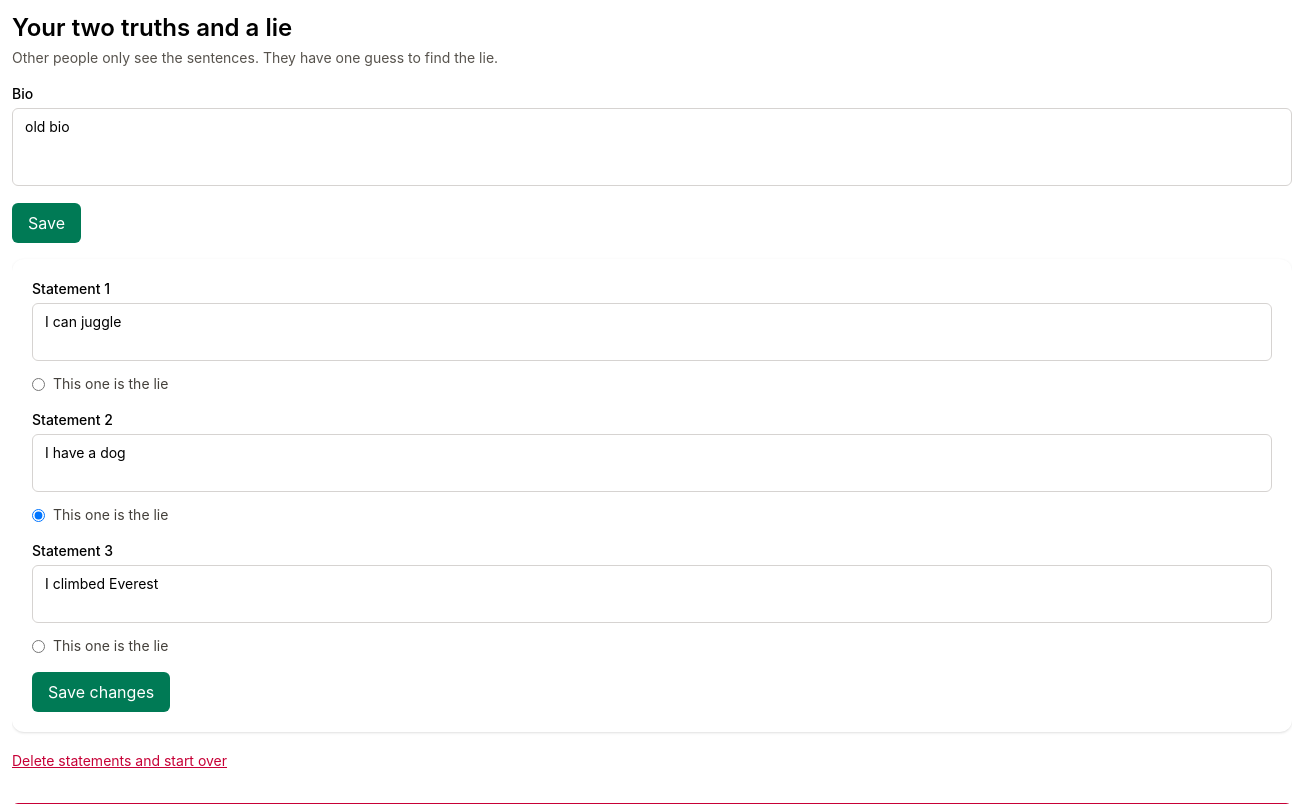
Scenario: saving a bio updates the signed-in user
Replace the text in the text box labelled "Bio" with "New bio" at (652, 147), box [12, 108, 1292, 186]
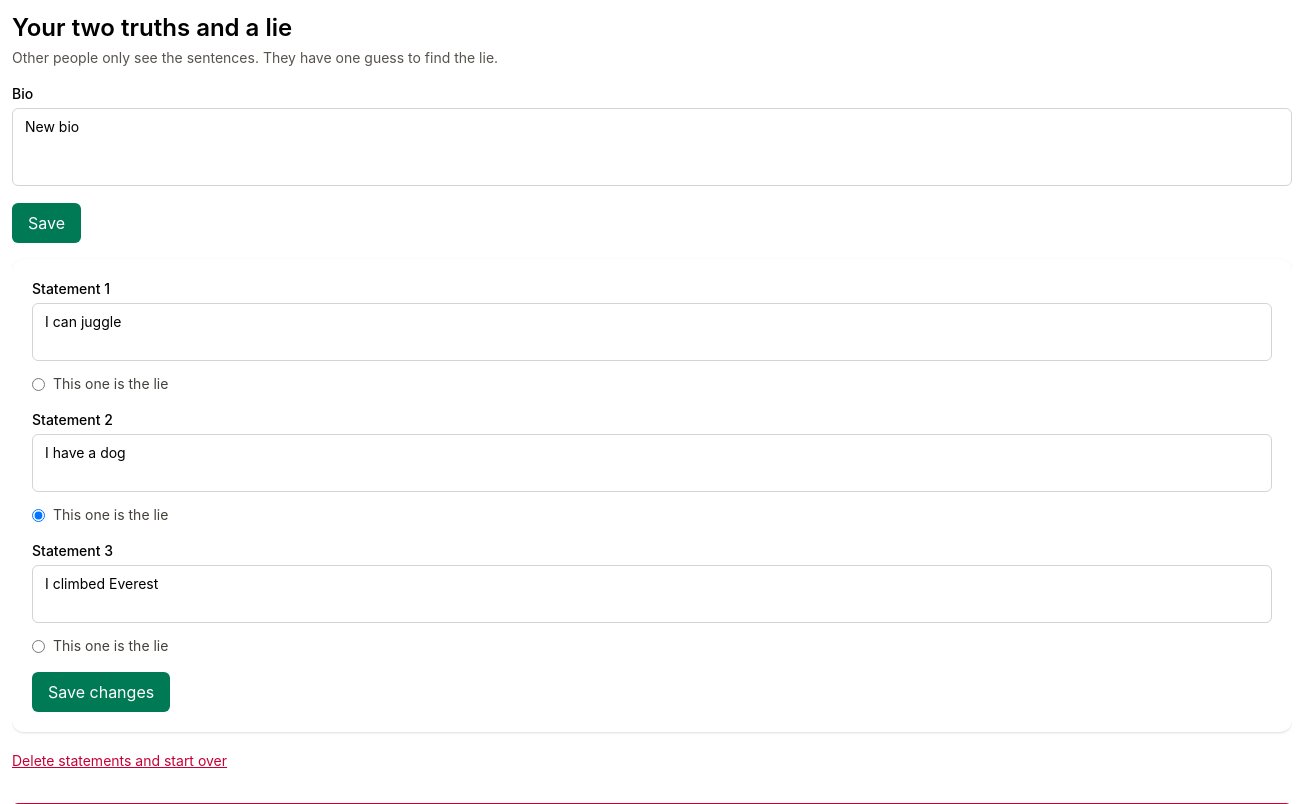
Click the button "Save" at (46, 223), box [12, 203, 81, 243]
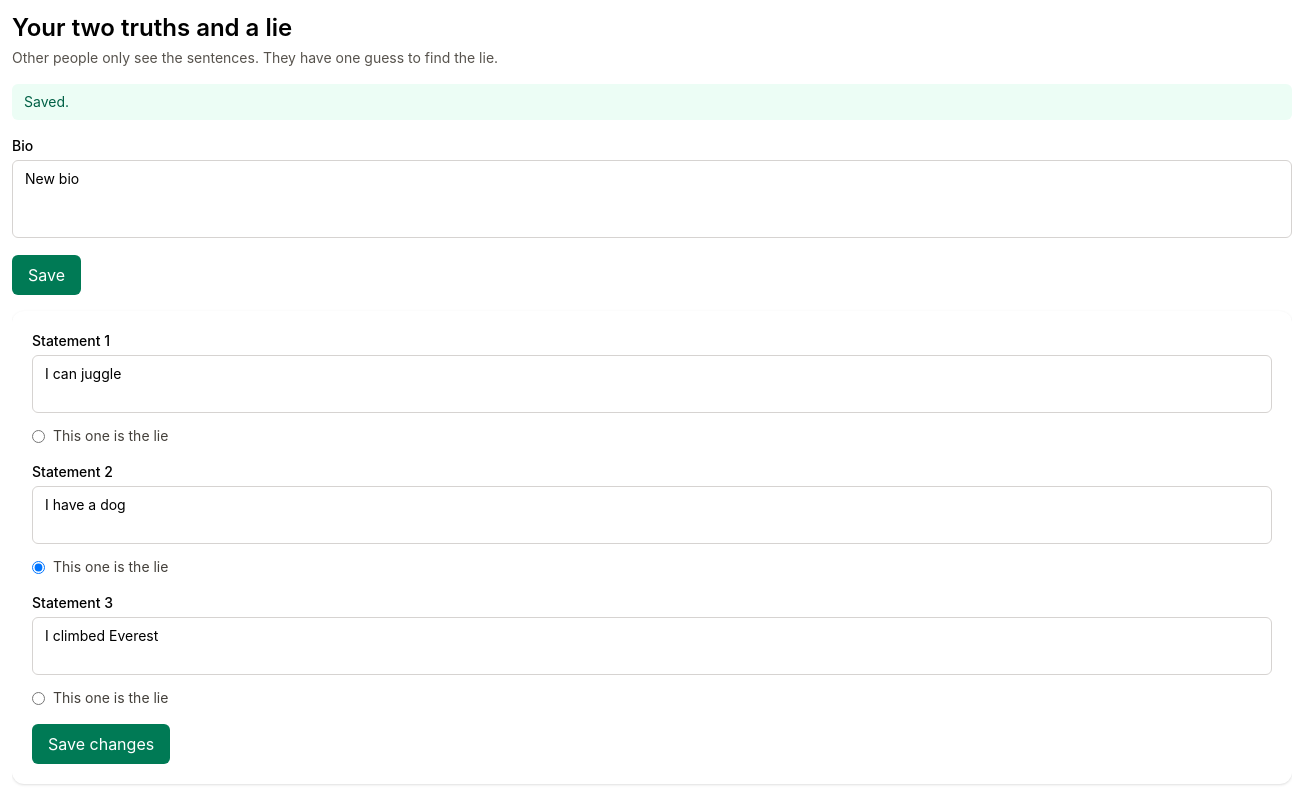
expect the message reads "Saved.": met, box [24, 93, 69, 110]
